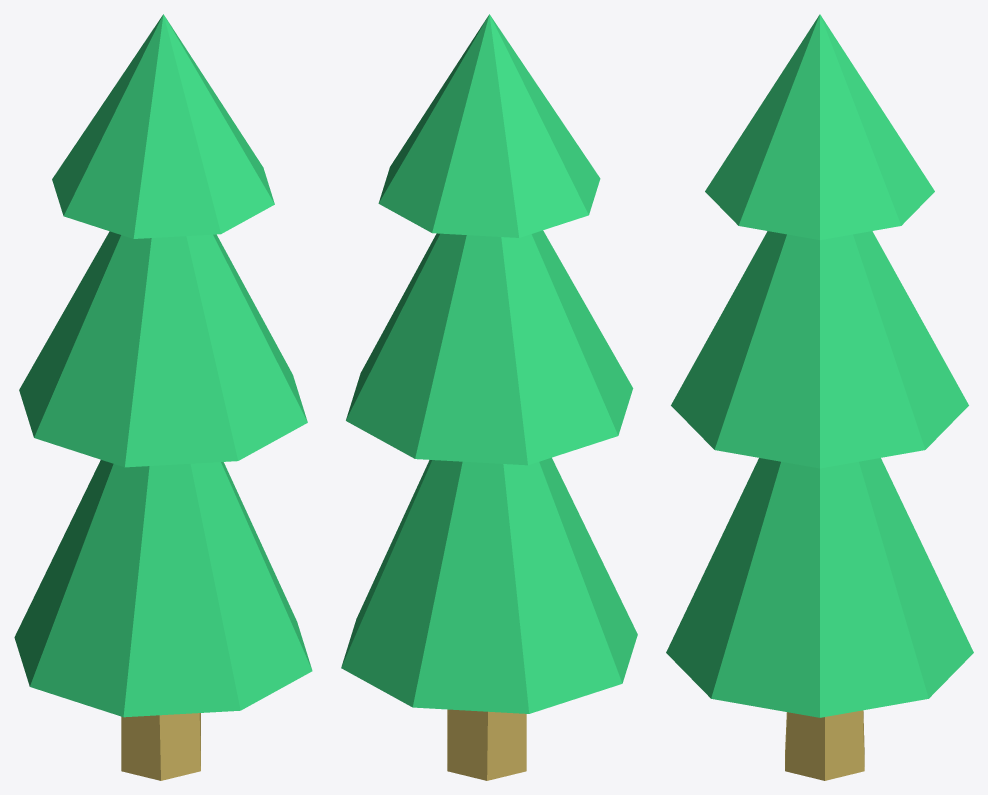
The model's file is tree.fbx.
3 renders of one model, left to right at view 1: azimuth 30°, elevation 25°; view 2: azimuth 150°, elevation 25°; view 3: azimuth 270°, elevation 25°, orthographic.
Parts seen in each view (by area): view 1: pCylinder3, pCylinder4; view 2: pCylinder3, pCylinder4; view 3: pCylinder3, pCylinder4.
Part boxes in pixels (x1,y1,x2,y2): pCylinder3: [14, 14, 312, 717]; pCylinder4: [121, 713, 200, 780]; pCylinder3: [341, 14, 637, 713]; pCylinder4: [447, 709, 526, 780]; pCylinder3: [666, 14, 973, 717]; pCylinder4: [785, 710, 864, 780].
Bounding box in the file's own units: 2.78 × 7.46 × 2.78.
